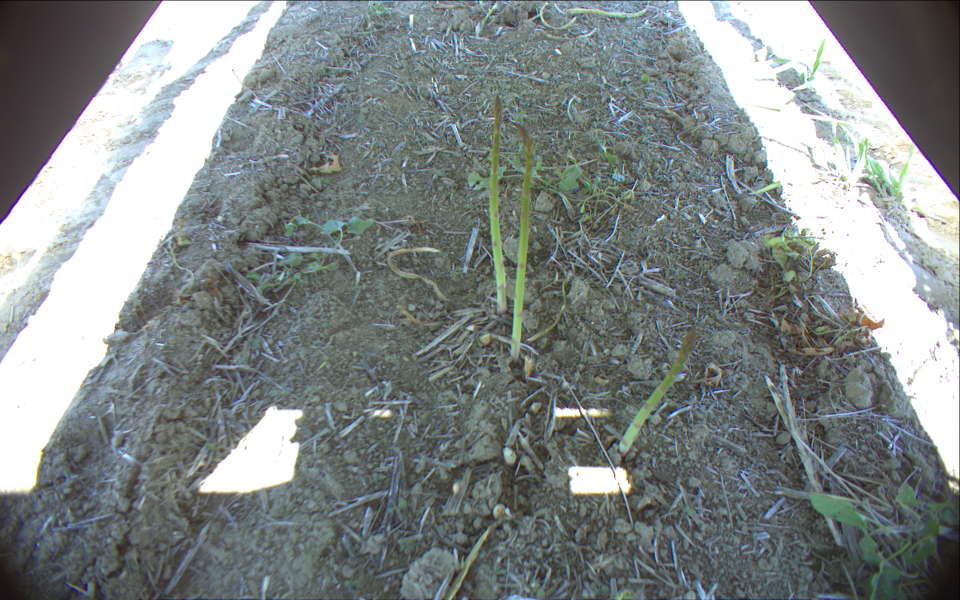aspa: (615, 324, 698, 457), (508, 121, 533, 365), (486, 93, 509, 315)
